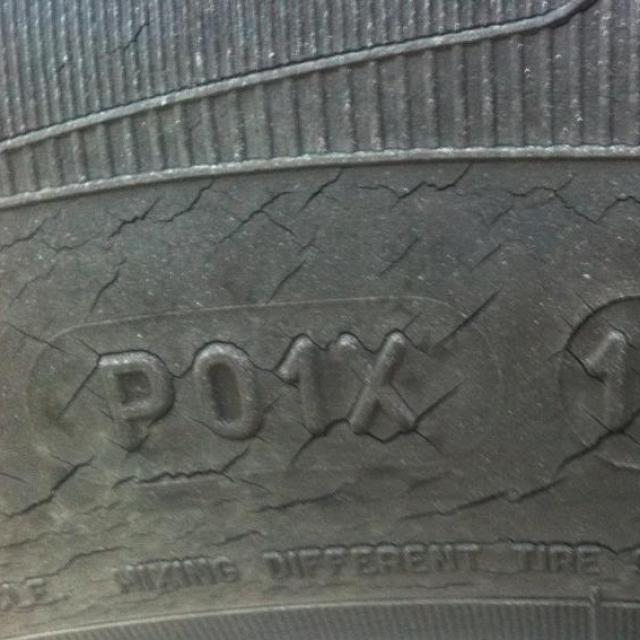Cracks: (0, 146, 640, 640), (34, 13, 172, 97)
